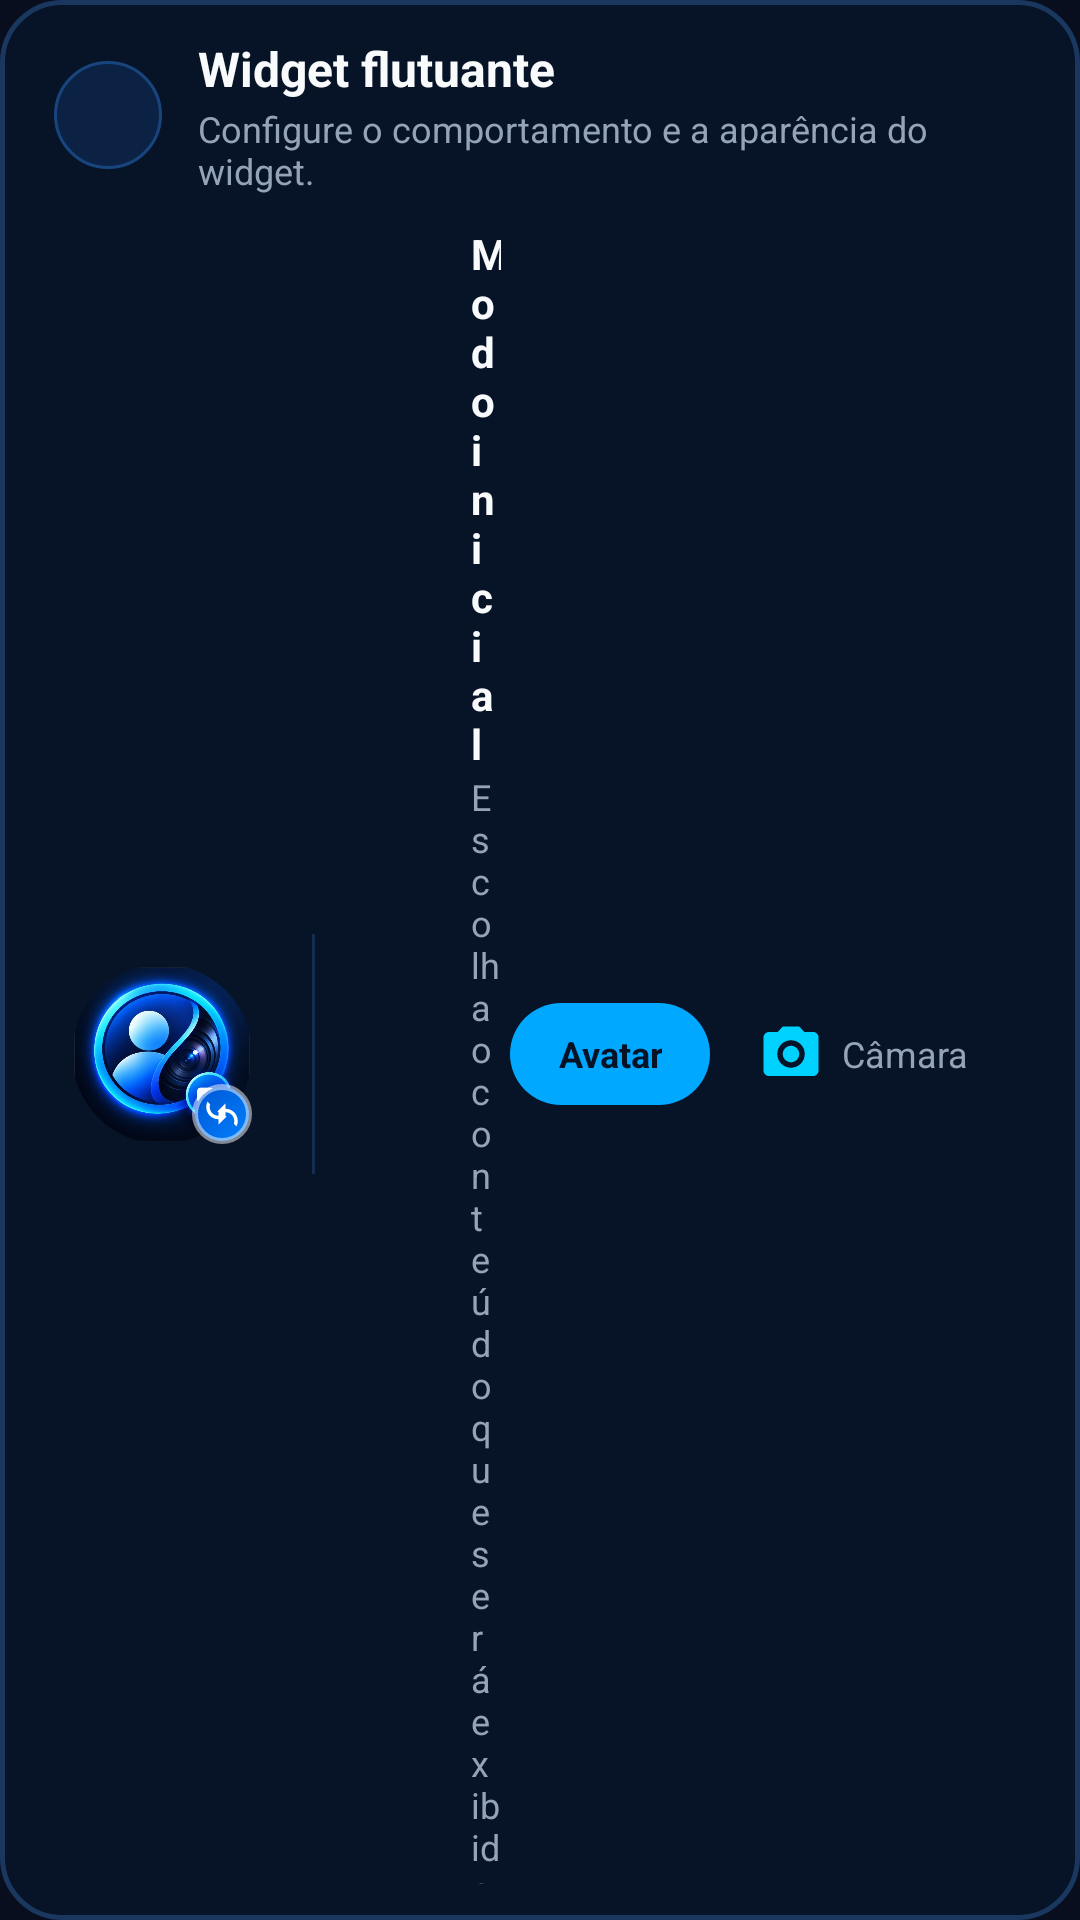

Named icons in this screenshot (1080px x 1920px) and their bounding boxes, bbox(x1, y1, x2, y2):
camera switch: bbox(192, 1084, 252, 1144)
